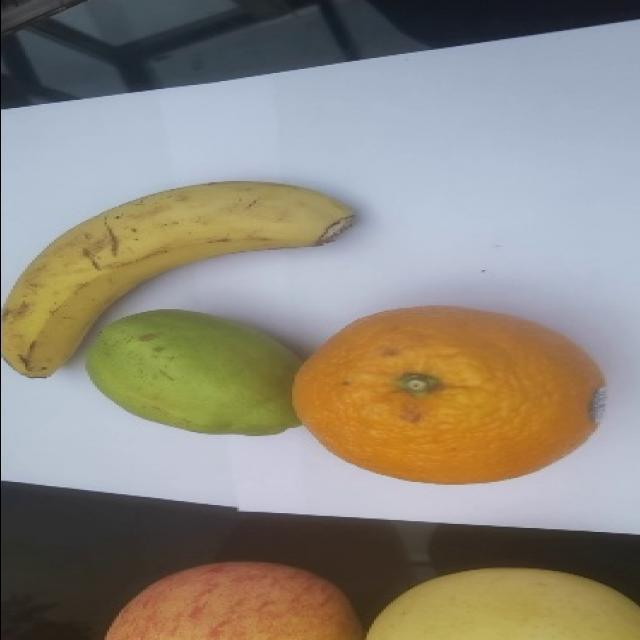Apple: (100, 553, 368, 640)
Banana: (6, 182, 359, 380)
Orange: (293, 307, 611, 490)
